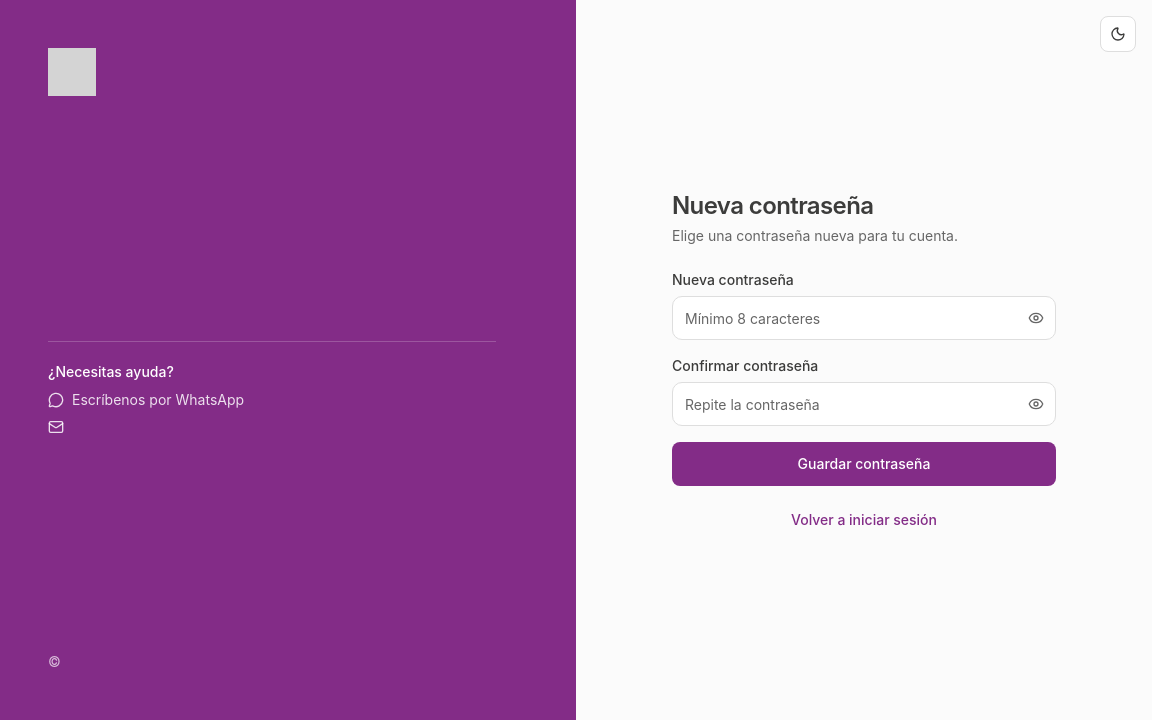
authentication — Restablecimiento de contraseña con un enlace › enlace no válido: muestra cómo pedir uno nuevo
The width and height of the screenshot is (1152, 720).
In the password field labelled "Nueva contraseña": [864, 318] box top-left (672, 296), bottom-right (1056, 340), type "nuevaClave456"
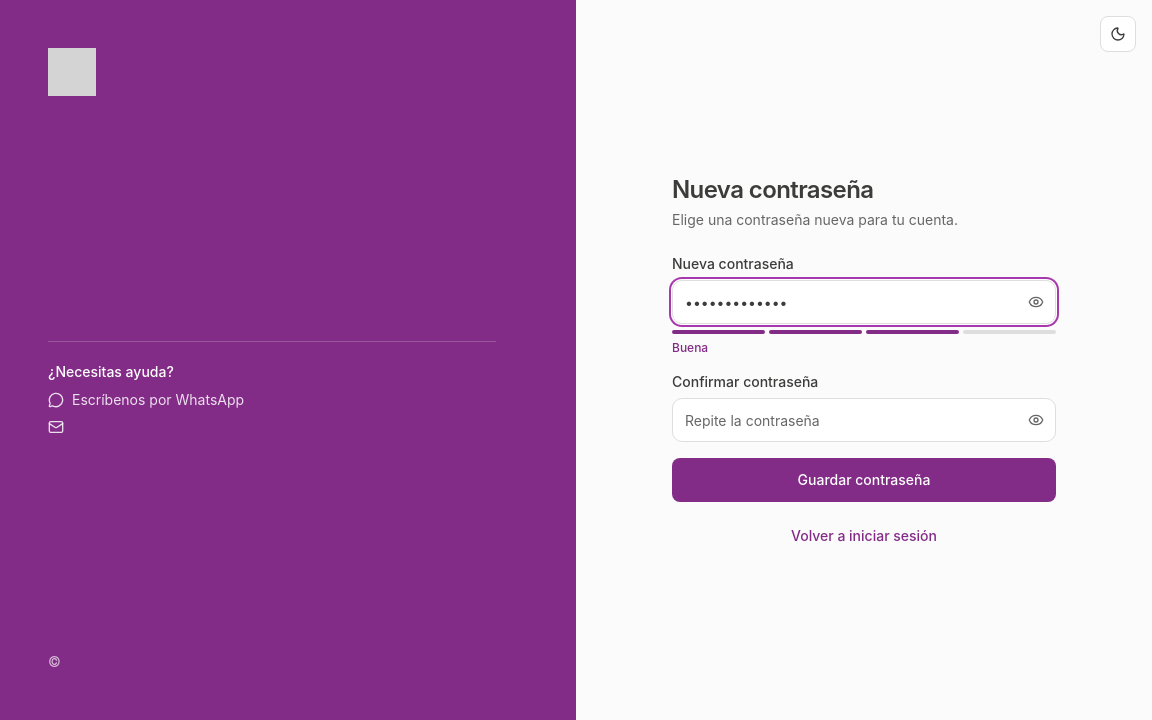
In the password field labelled "Confirmar contraseña": [864, 420] box top-left (672, 398), bottom-right (1056, 442), type "nuevaClave456"
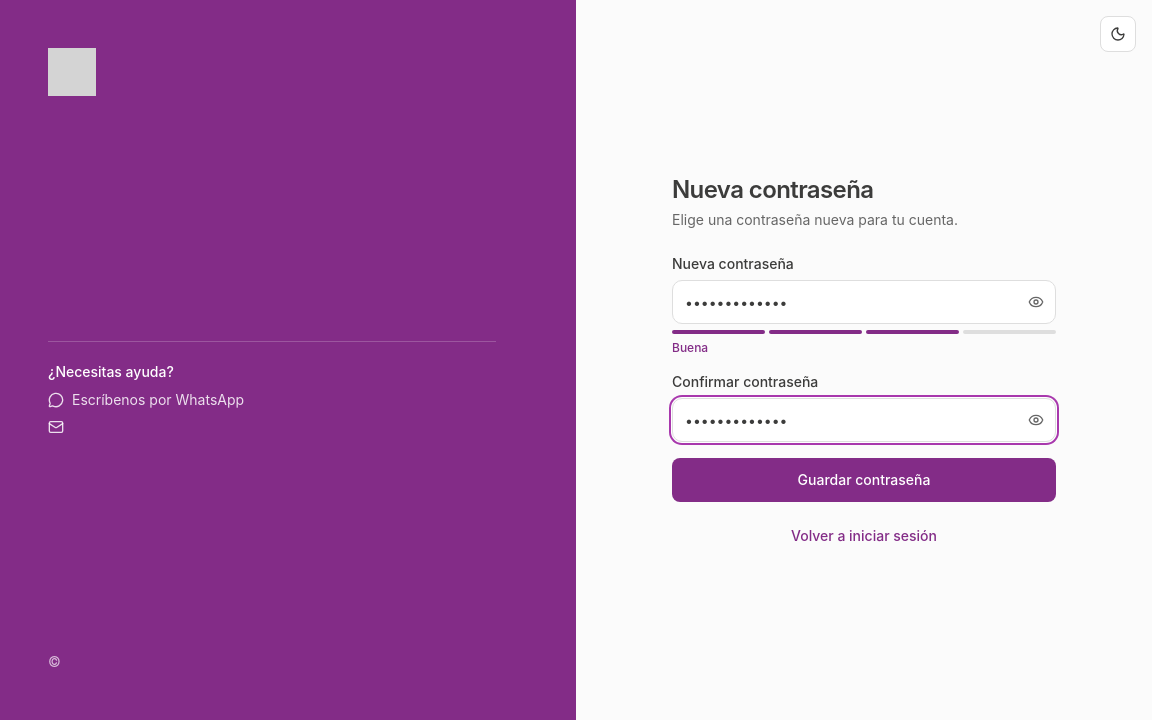
Click the button "Guardar contraseña": [864, 480] box top-left (672, 458), bottom-right (1056, 502)
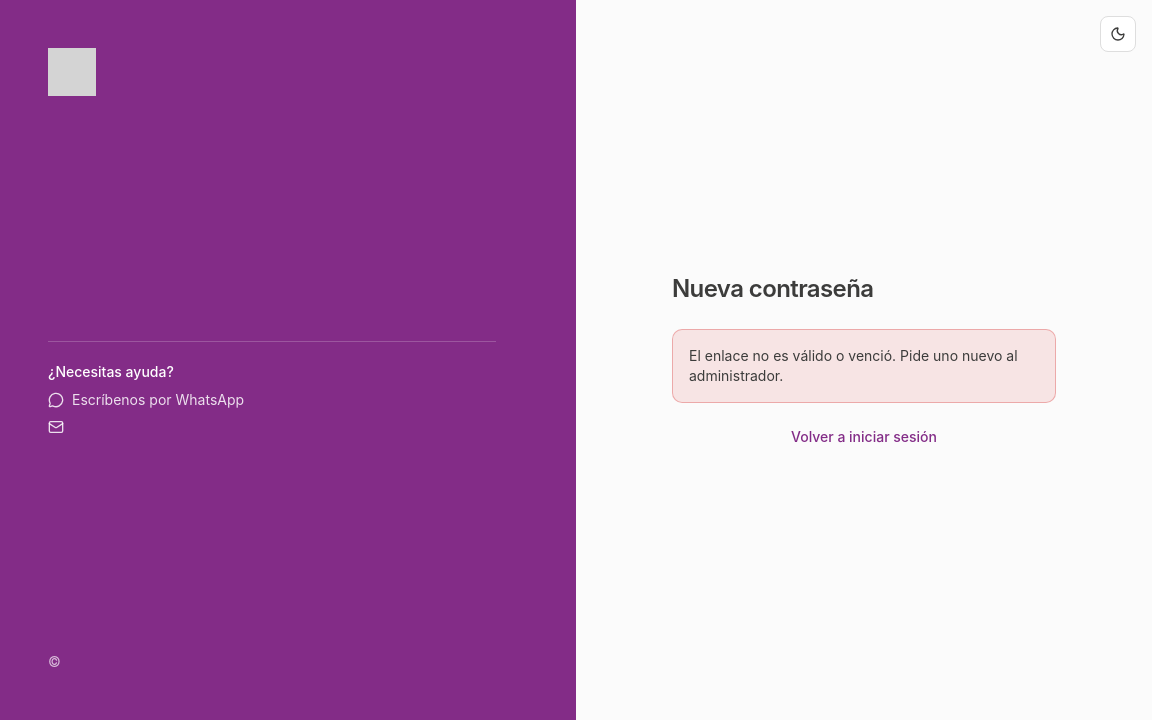
Now the text "El enlace no es válido o venció. Pide uno nuevo al administrador." is shown, box top-left (672, 329), bottom-right (1056, 403)
